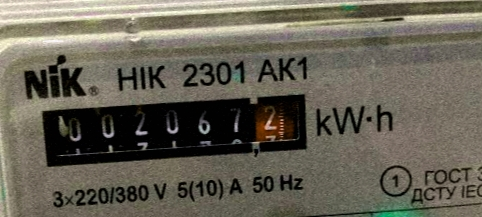0: (63, 113, 83, 143), (160, 104, 180, 134), (97, 109, 116, 139)
2: (259, 101, 279, 131), (130, 107, 149, 137)
6: (193, 105, 213, 135)
7: (226, 103, 244, 134)
screen: (26, 78, 323, 179)
